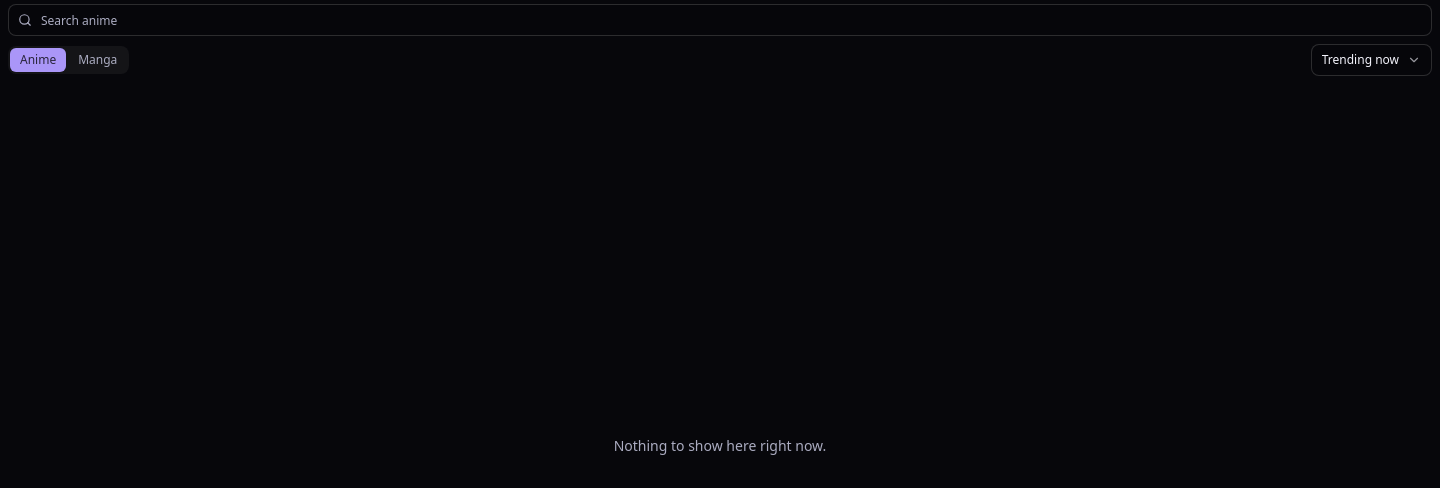
Scenario: DiscoverView search › surfaces the wait time when AniList rate-limits the search
This screenshot has width=1440, height=488.
Type "frieren" into the search field labelled "Search anime".
click(720, 20); type("frieren")  # box [8,4,1432,36]
Wait 300 ms
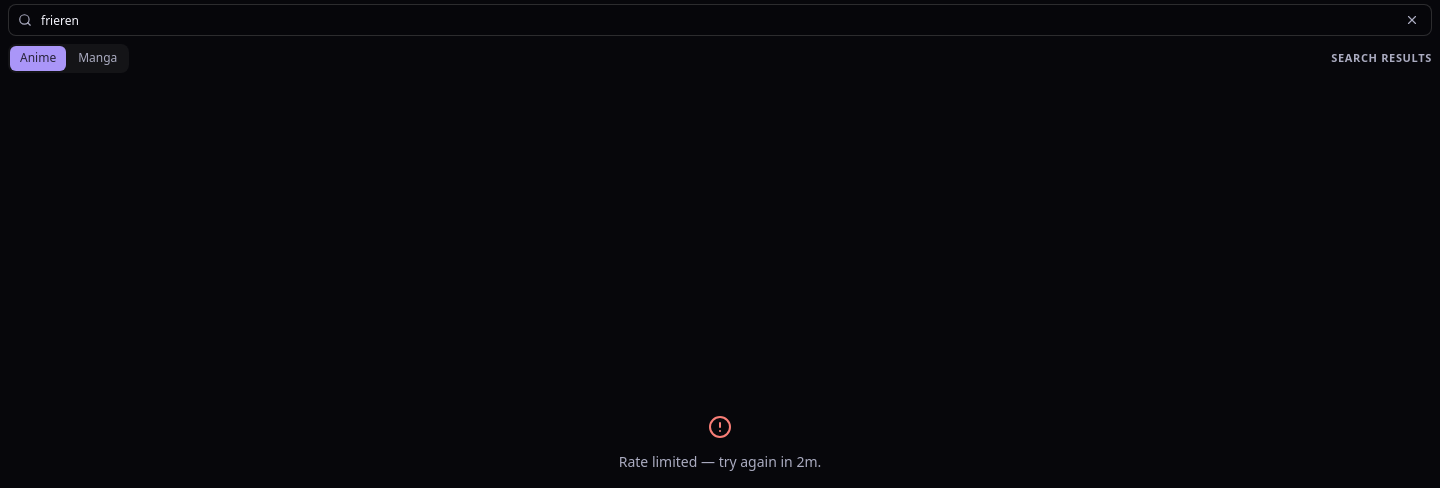
expect the text "Rate limited — try again in 2m." is shown: met, box [619,451,821,472]
